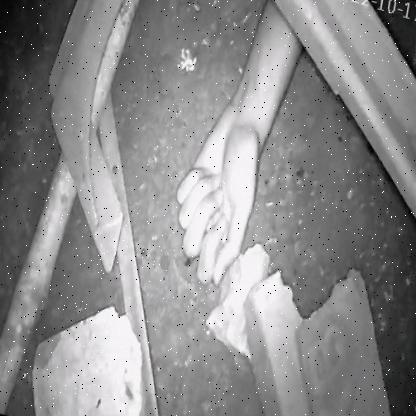hand: (110, 26, 309, 296)
